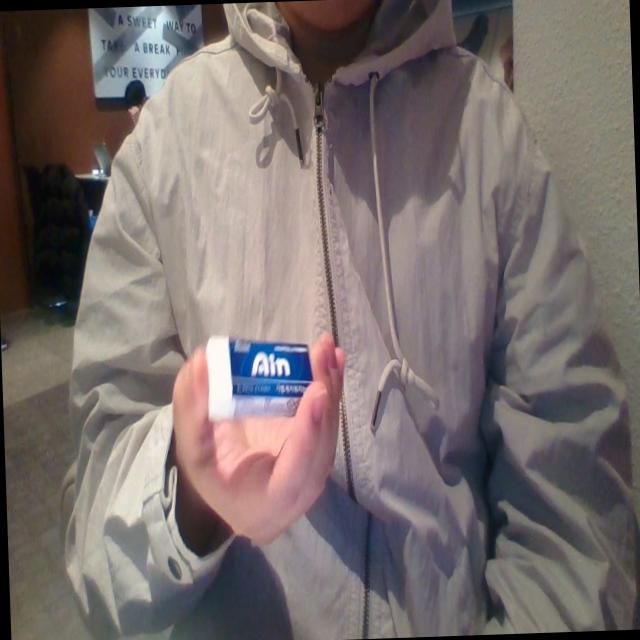eraser: (198, 326, 324, 419)
grab_eraser: (157, 322, 376, 572)
